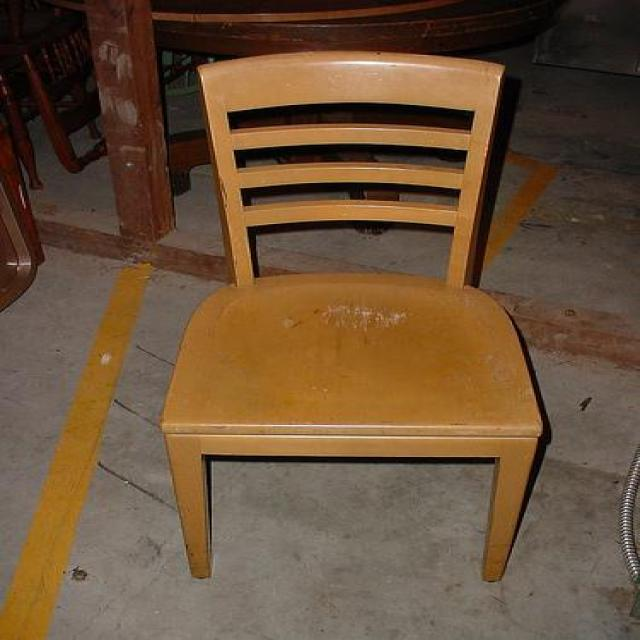chair: (153, 49, 544, 586)
